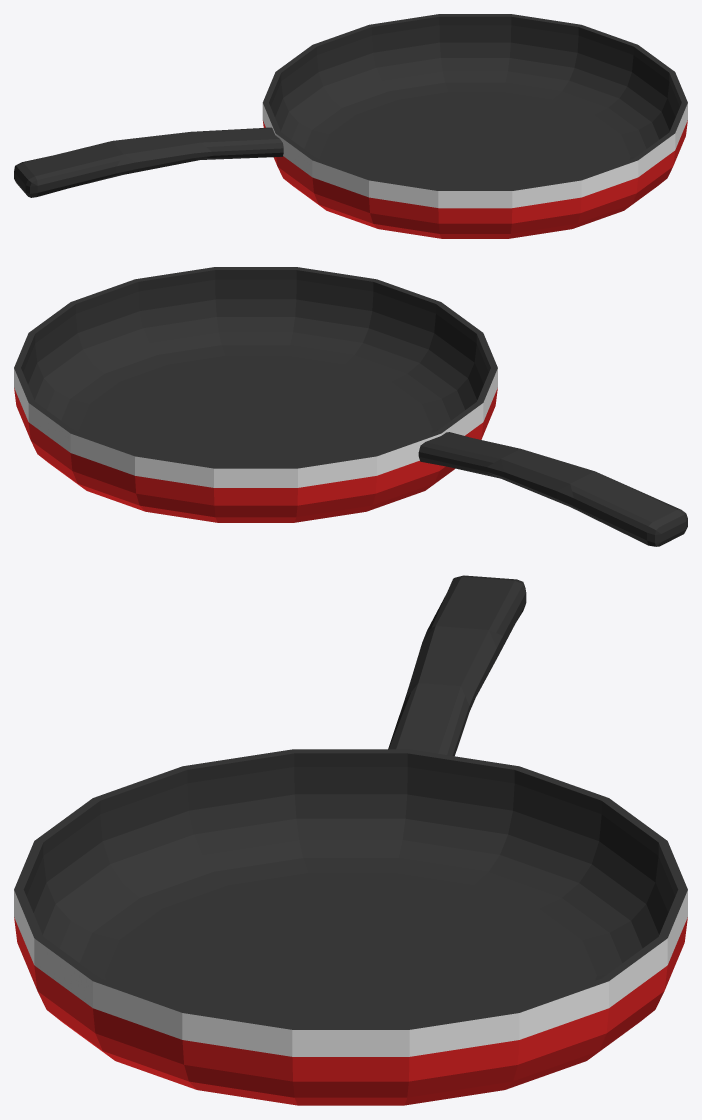
Rendered from Frying pan.gltf.
3 renders of one model, top to bottom at view 1: azimuth 30°, elevation 25°; view 2: azimuth 150°, elevation 25°; view 3: azimuth 270°, elevation 25°, orthographic. The views are drawn at different scales.
Parts seen in each view (by area): view 1: node-0; view 2: node-0; view 3: node-0.
Part boxes in pixels (left/top/right/bottom): node-0: left=14, top=14, right=687, bottom=238; node-0: left=14, top=267, right=687, bottom=546; node-0: left=14, top=575, right=687, bottom=1105.
Bounding box in the file's own units: 926511 × 104912 × 573298.
